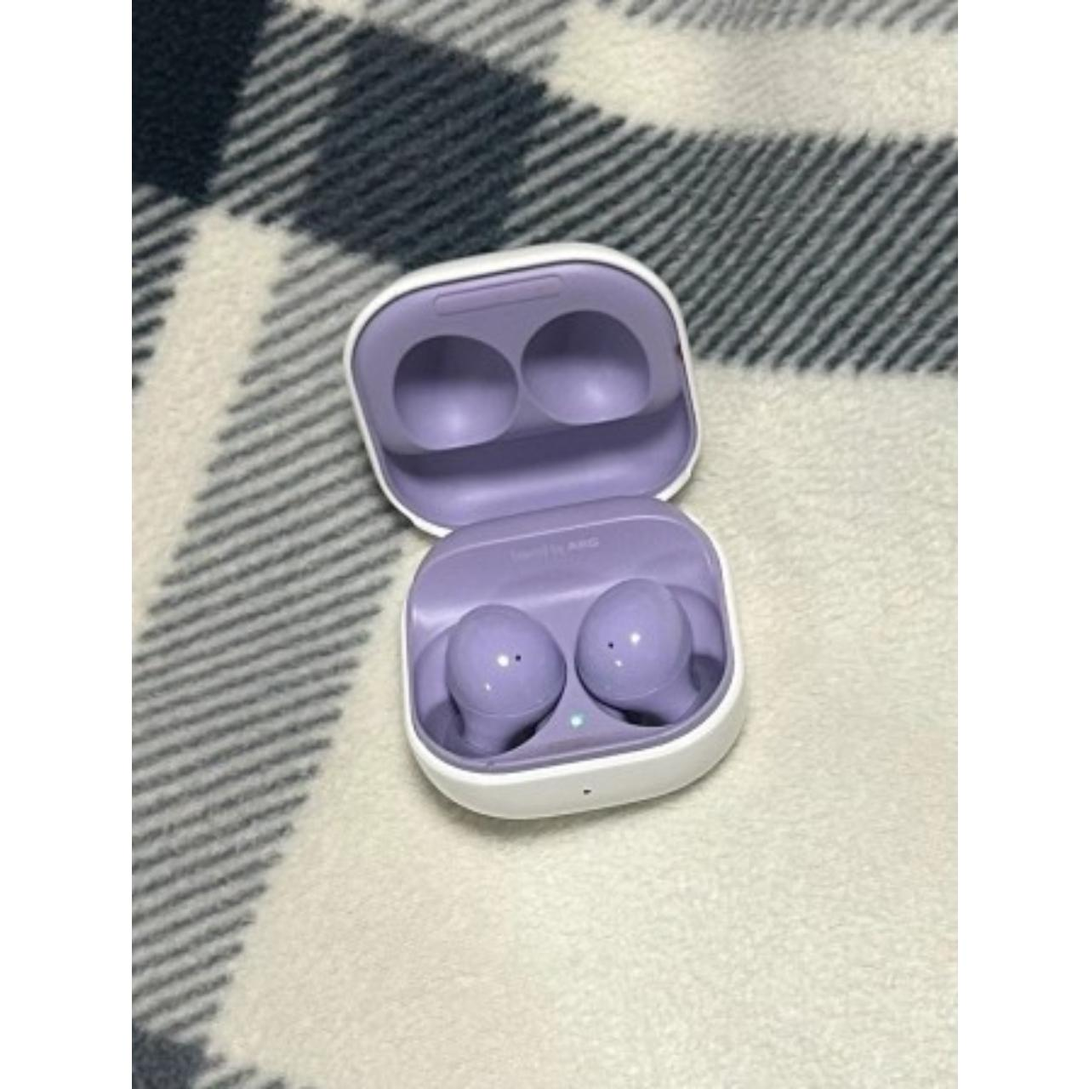Buds: (342, 236, 761, 835)
Buds_Units: (570, 575, 714, 735), (437, 599, 570, 765)
